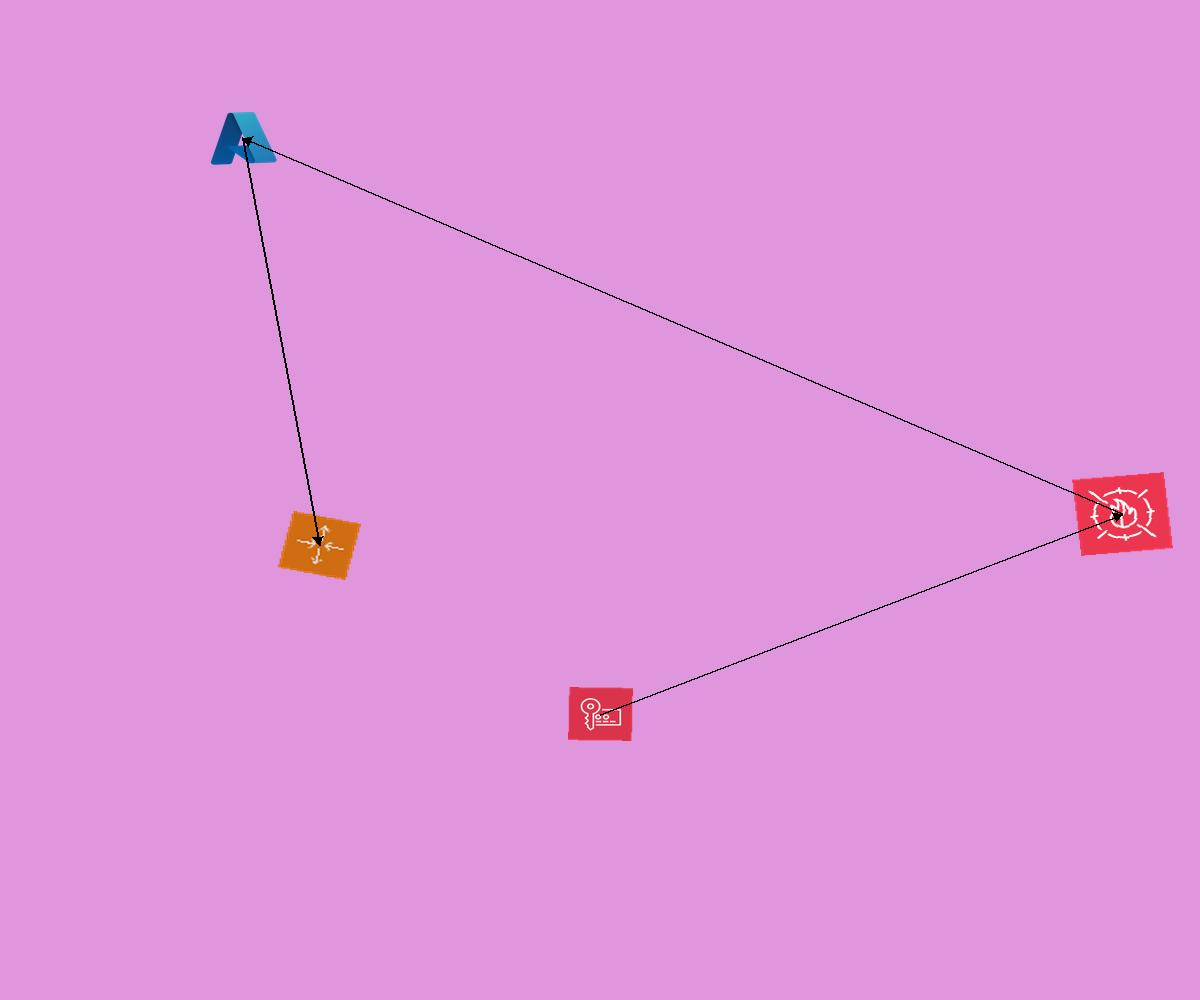AWS-Key-Management-Service: (568, 687, 633, 741)
AWS-Scaling-group: (278, 511, 361, 580)
AWS-WAF: (1072, 472, 1173, 556)
Azure_services: (205, 107, 280, 169)
